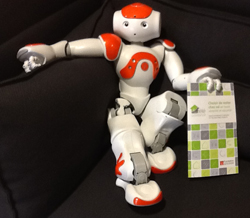nao: (16, 3, 227, 208)
